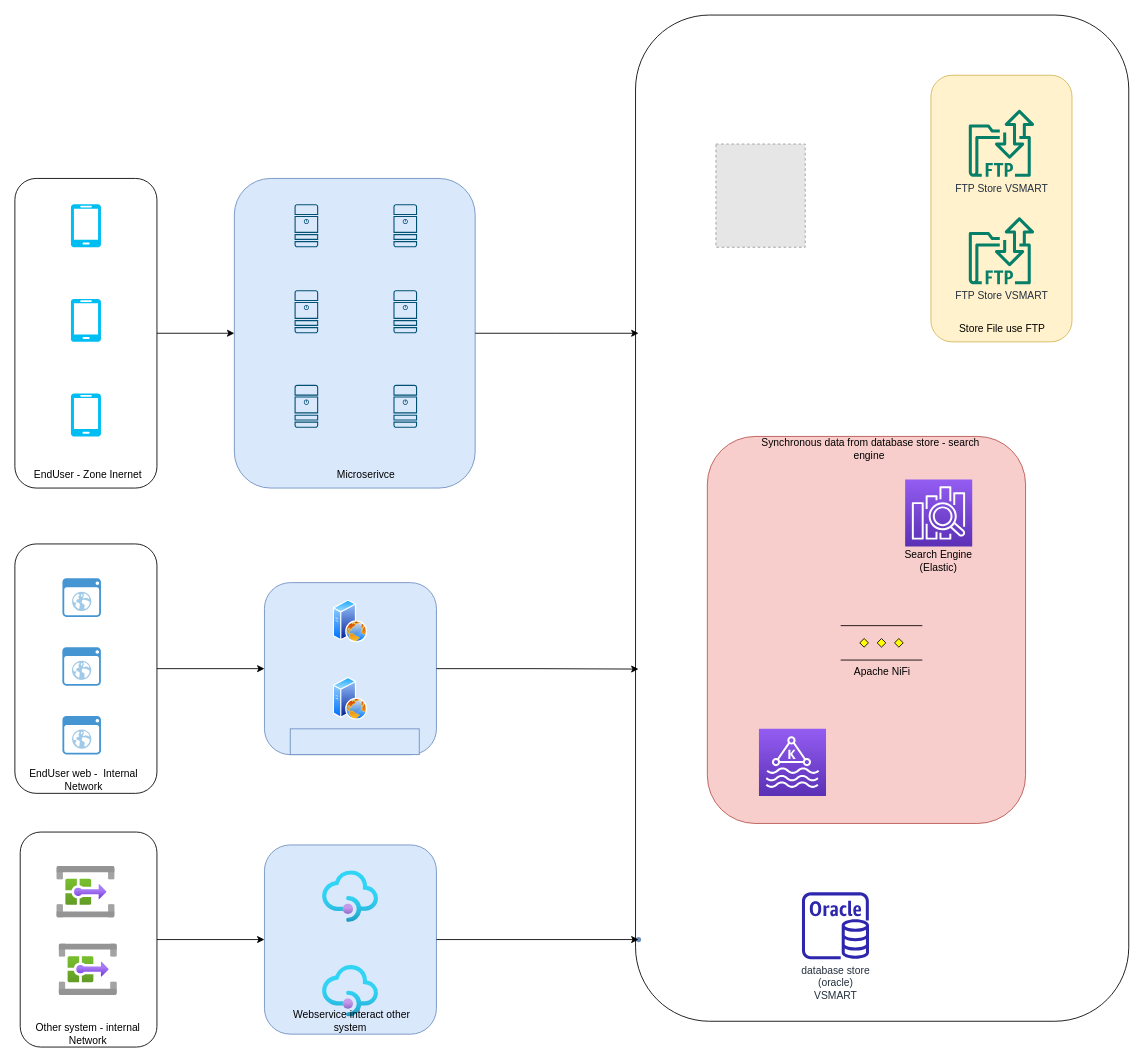
Some shapes in this 1145 by 1062 pixel diagram are drawn without their labels. Grey dashed boxes stand in for pictures. Here are the shapes that lost their labels. From the top down, the box of each, then its label:
(289, 728, 419, 755): Webserver - TOMCAT
(758, 728, 826, 796): Apache Kafka stream
